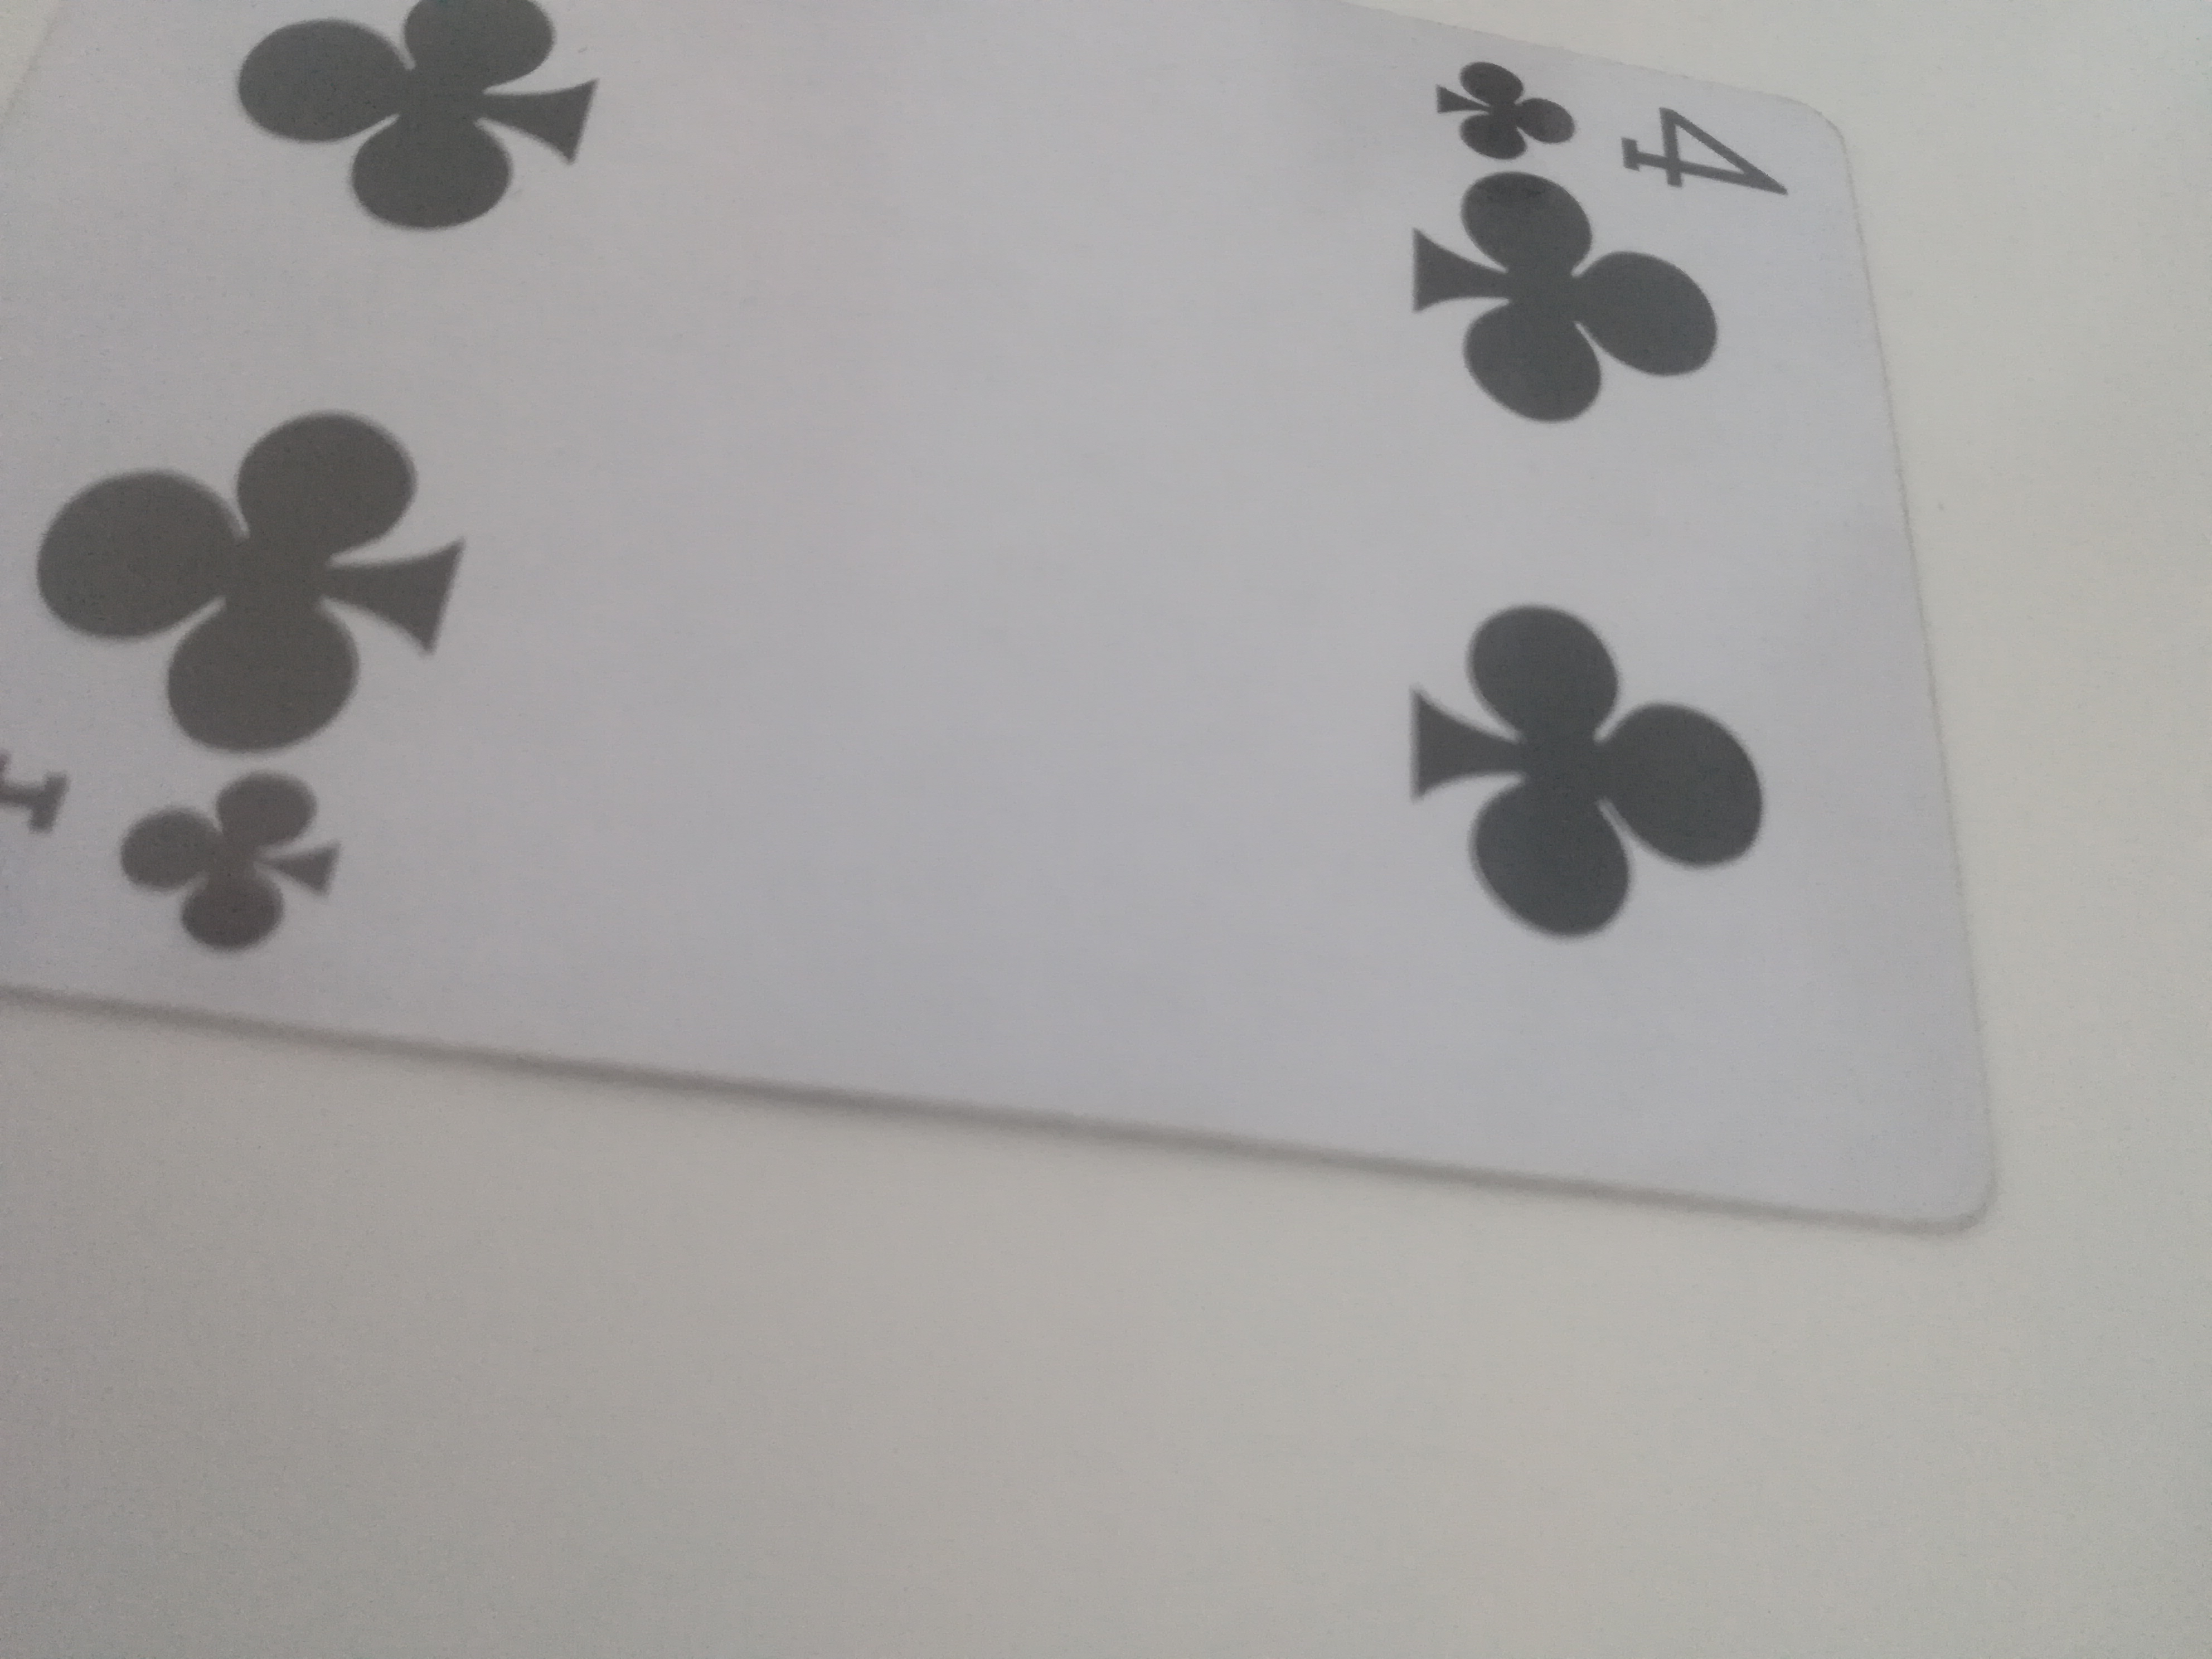4C: (0, 2, 2027, 1237)
